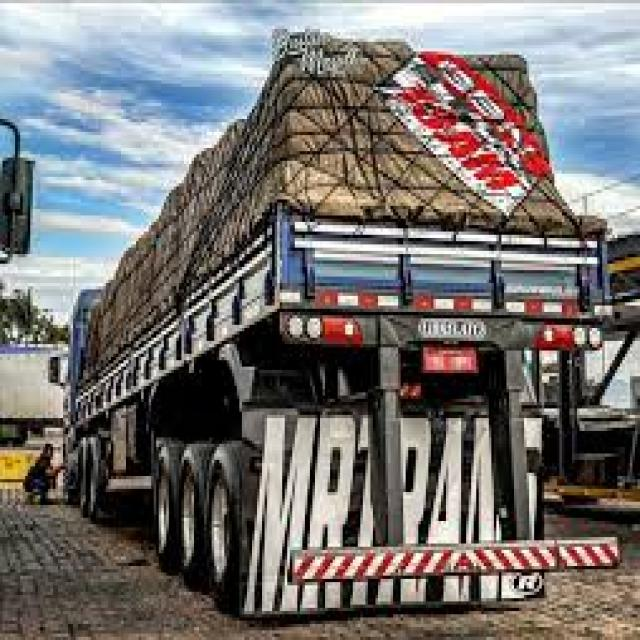truck: (56, 22, 632, 640)
